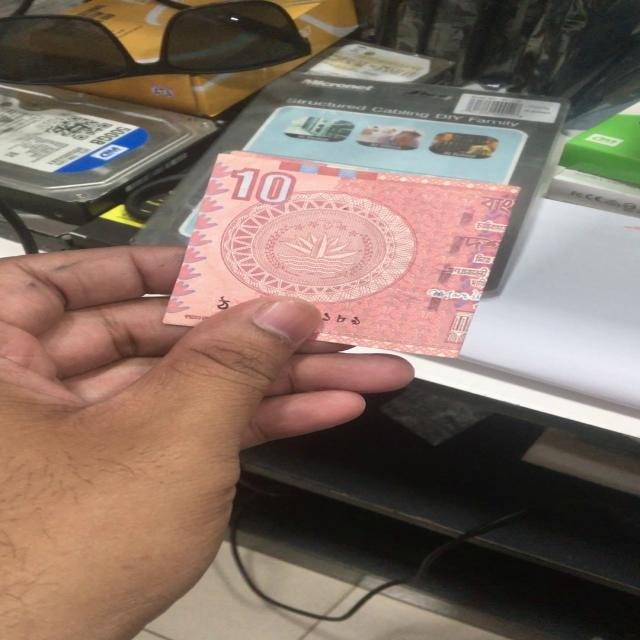Taka: (183, 154, 510, 353)
